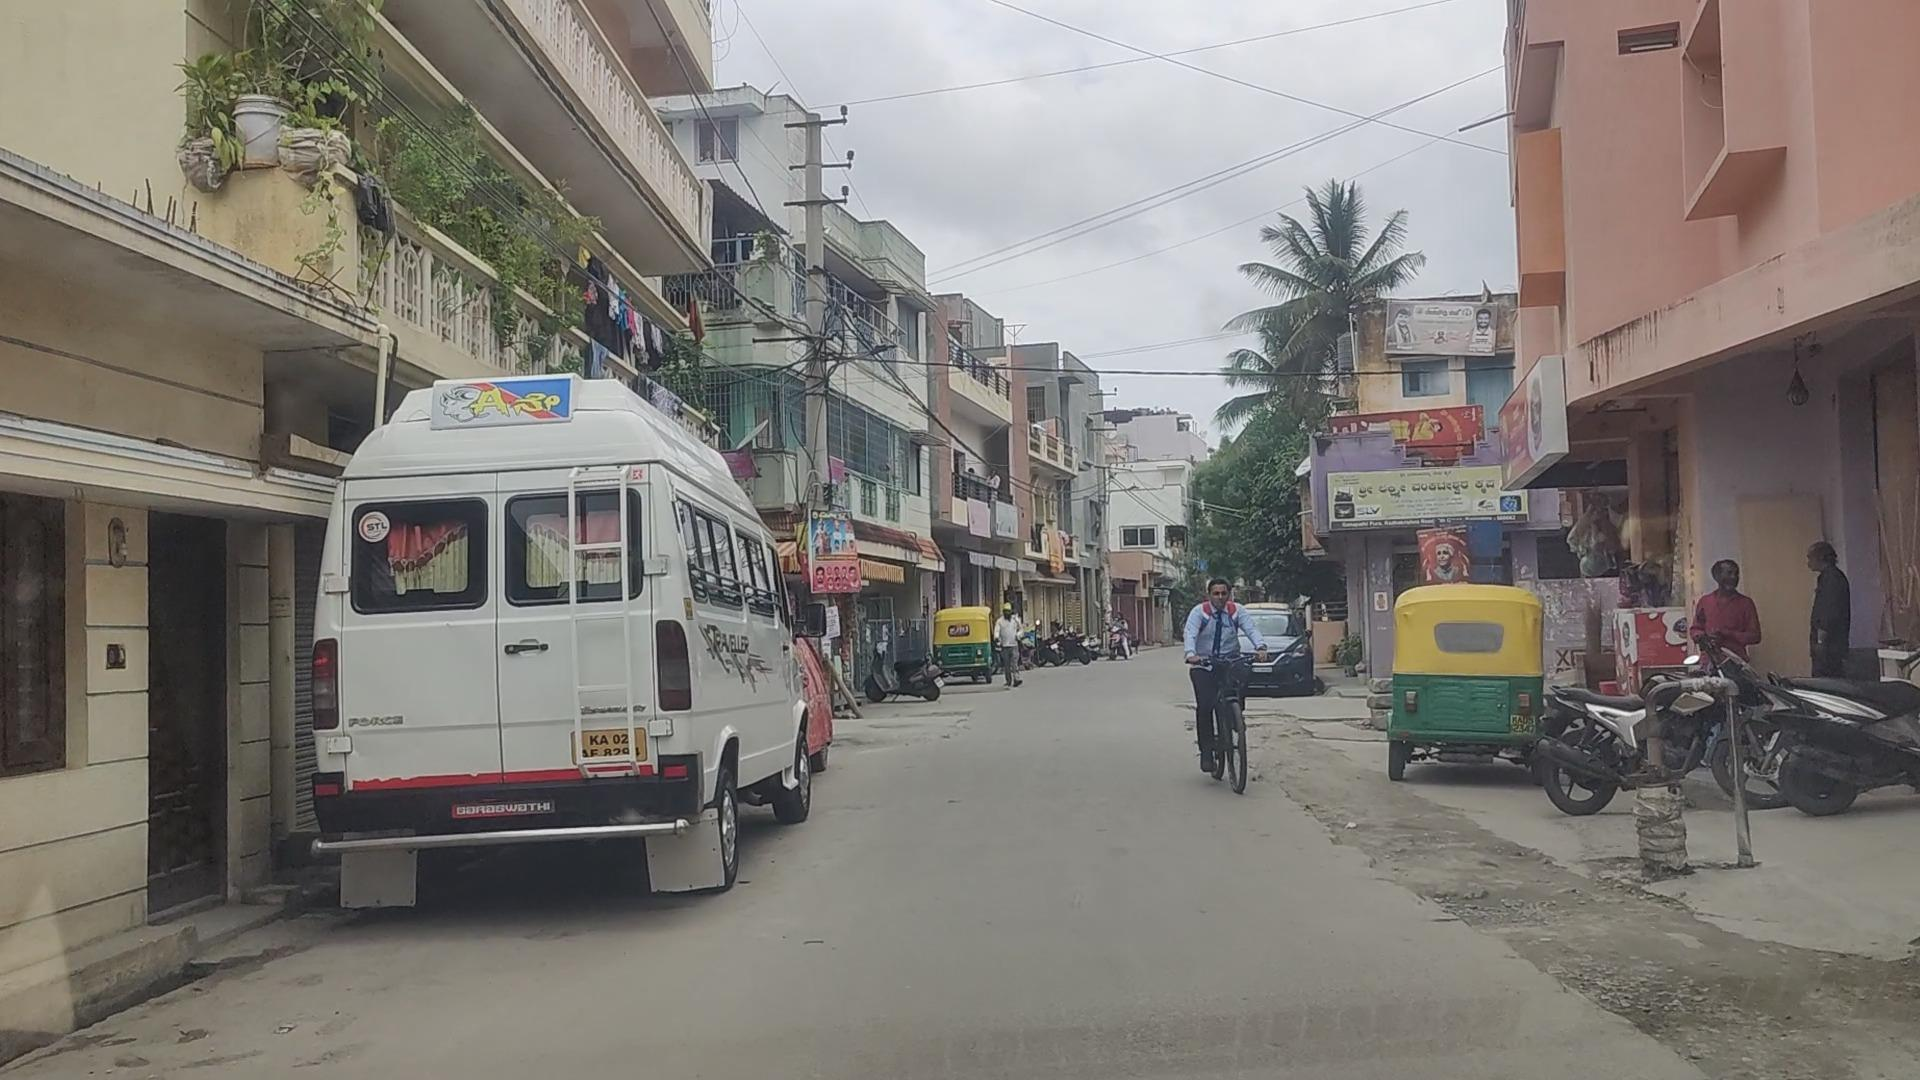HMV: (305, 388, 827, 887)
LMV: (1174, 580, 1261, 794)
RoadDamages: (1547, 891, 1718, 1080), (1386, 822, 1522, 956), (1279, 761, 1382, 847)
